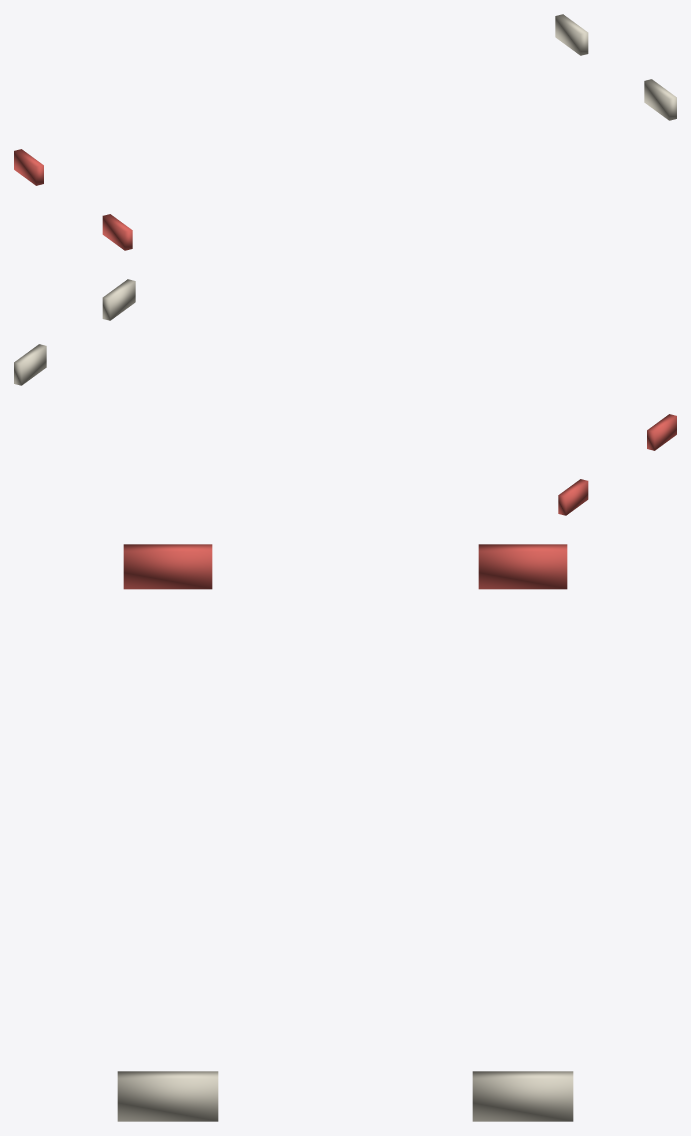
The model's file is car_lights.glb.
The picture shows the model from 3 angles, top to bottom: view 1: azimuth 30°, elevation 25°; view 2: azimuth 150°, elevation 25°; view 3: azimuth 270°, elevation 25°; orthographic projection. The views are drawn at different scales.
Parts seen in each view (by area): view 1: car_lights; view 2: car_lights; view 3: car_lights.
Part boxes in pixels (x1,y1,x2,y2): car_lights: (14, 14, 676, 250); car_lights: (14, 279, 676, 515); car_lights: (117, 544, 573, 1121).
Bounding box in the file's own units: 4.3 × 0.16 × 1.54.
